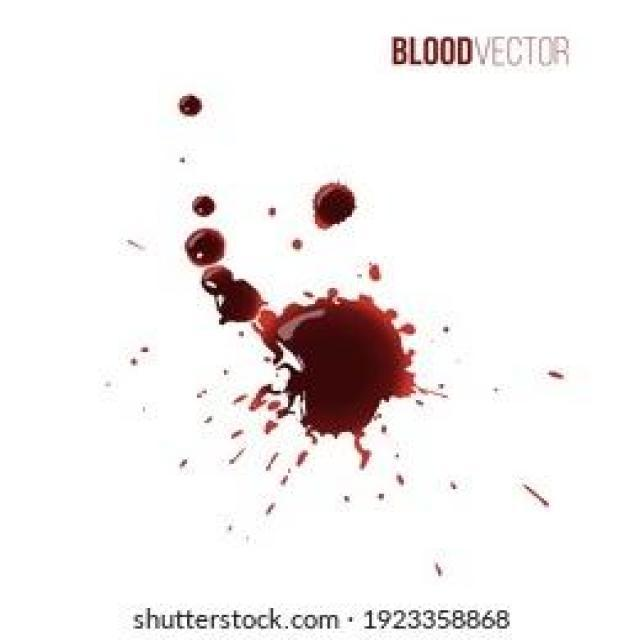flood: (187, 185, 419, 439)
